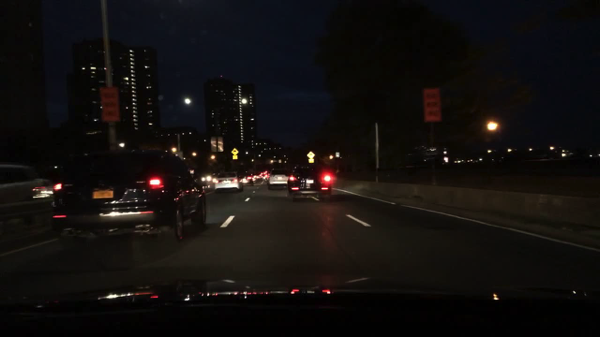car: (52, 149, 210, 246), (0, 164, 55, 227), (287, 165, 333, 199), (216, 172, 243, 192), (269, 169, 290, 189), (238, 172, 253, 187), (199, 174, 213, 184), (253, 173, 260, 183)
traffic sign: (99, 87, 121, 122), (424, 88, 441, 122), (210, 136, 224, 154), (230, 147, 238, 156), (307, 152, 315, 159), (308, 160, 314, 163), (233, 157, 239, 160)
